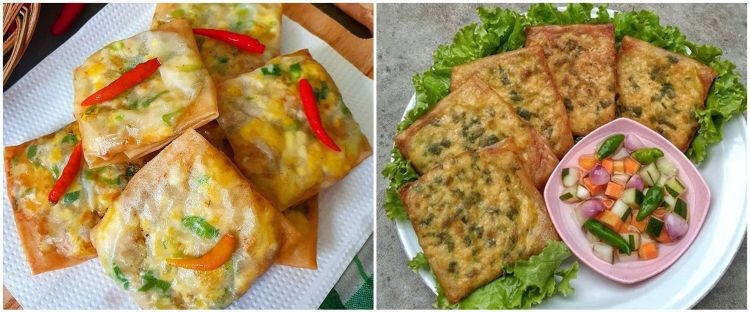martabak: (4, 3, 373, 305), (396, 23, 720, 305)
